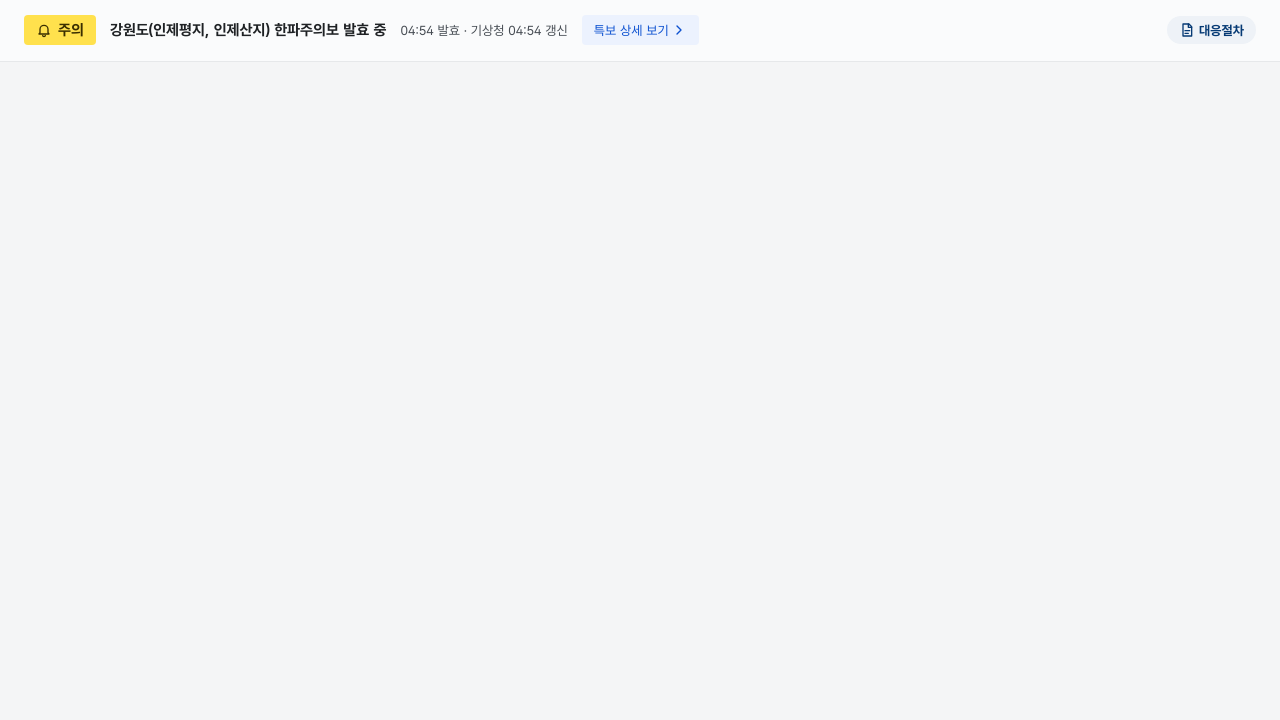
Scenario: 기상특보 상세 창 › 전국 발효 현황 — 서버가 특보코드로 센 값(counts)이 오면 그것을 그대로(구역 코드마다, 해상 따로)
The width and height of the screenshot is (1280, 720).
Click the button with class "wxmore".
click(640, 30)  # box [582,15,699,45]
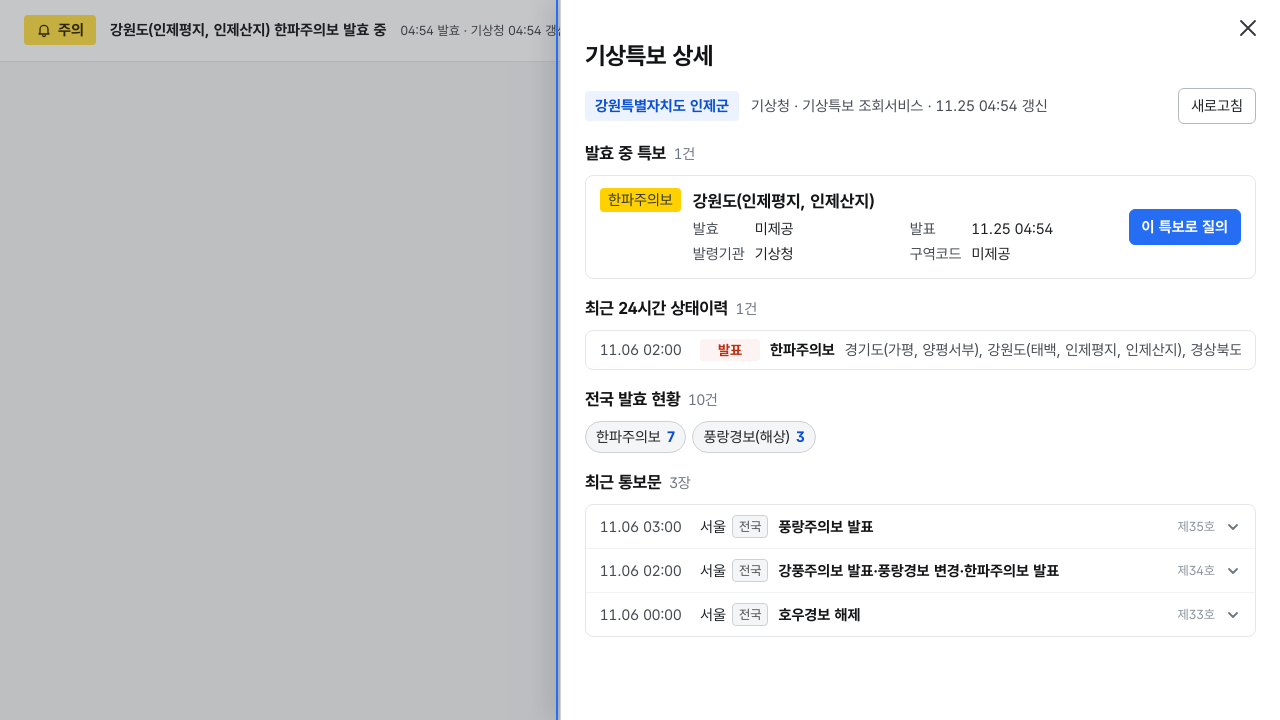
Check: the text with class "wx-count" reads "10건", box [688,391,717,409]
